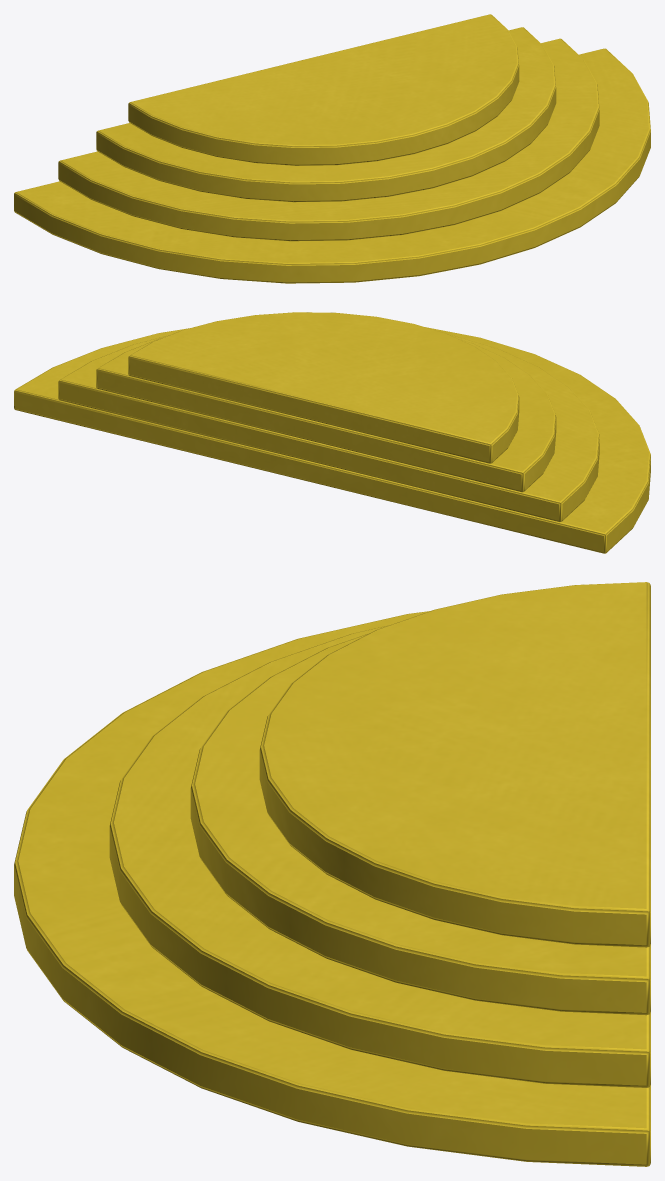
File: StageStep.fbx
3 renders of one model, top to bottom at view 1: azimuth 30°, elevation 25°; view 2: azimuth 150°, elevation 25°; view 3: azimuth 270°, elevation 25°, orthographic. The views are drawn at different scales.
Visible parts, largest first — view 1: StageStep; view 2: StageStep; view 3: StageStep.
Part boxes in pixels (bbox=[...]): StageStep: bbox=[14, 14, 650, 283]; StageStep: bbox=[14, 312, 650, 553]; StageStep: bbox=[14, 582, 650, 1166].
Bounding box in the file's own units: 6 × 3 × 0.8.
